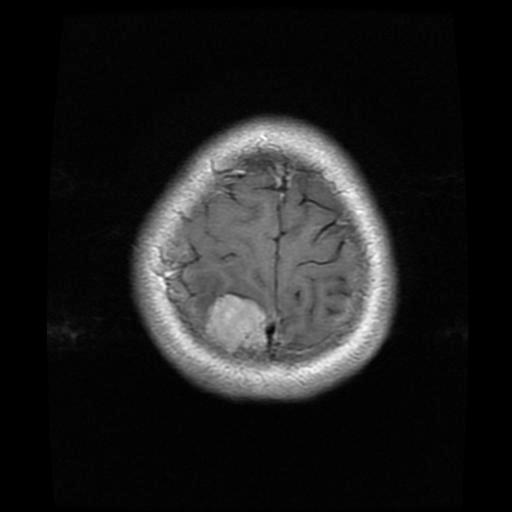Tumour-Meningioma: (206, 284, 282, 374)
